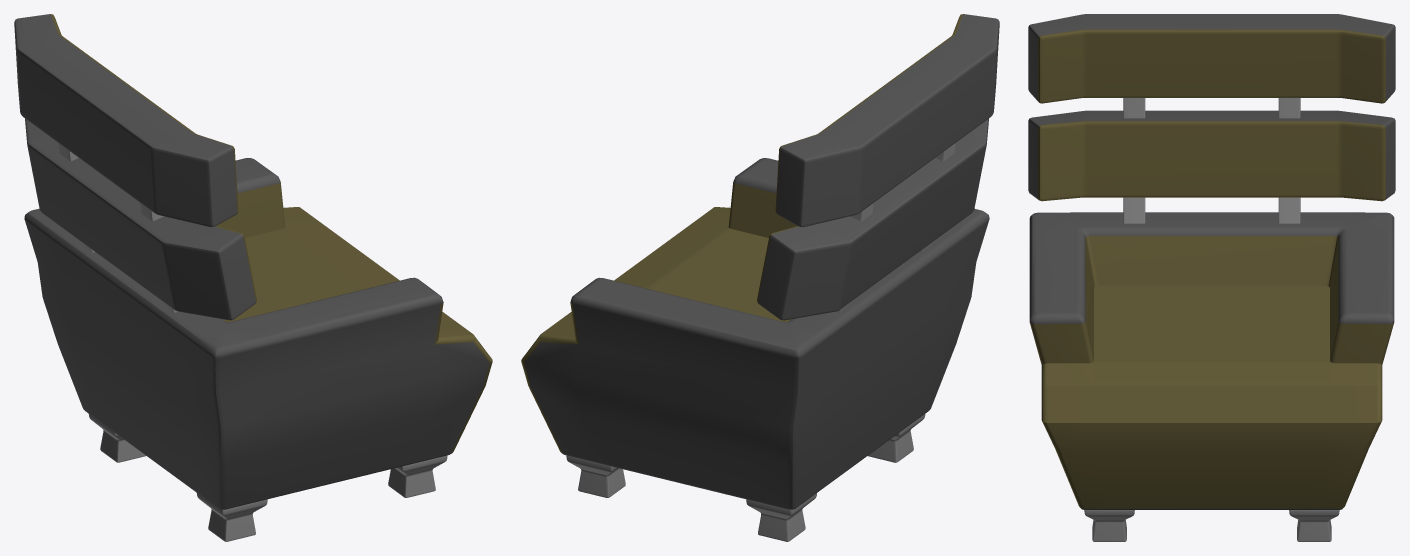
Rendered from Recliner_Chair.fbx.
3 renders of one model, left to right at view 1: azimuth 30°, elevation 25°; view 2: azimuth 150°, elevation 25°; view 3: azimuth 270°, elevation 25°, orthographic. The views are drawn at different scales.
Parts seen in each view (by area): view 1: Single_Seater, Single_Feet; view 2: Single_Seater, Single_Feet; view 3: Single_Seater, Single_Feet.
Boxes of the visible parts, left/top/right/bottom form: Single_Seater: left=14, top=14, right=492, bottom=509; Single_Feet: left=89, top=414, right=447, bottom=541; Single_Seater: left=521, top=14, right=999, bottom=509; Single_Feet: left=566, top=414, right=925, bottom=541; Single_Seater: left=1028, top=14, right=1395, bottom=509; Single_Feet: left=1084, top=510, right=1339, bottom=541.
Bounding box in the file's own units: 83.13 × 104 × 86.95.
